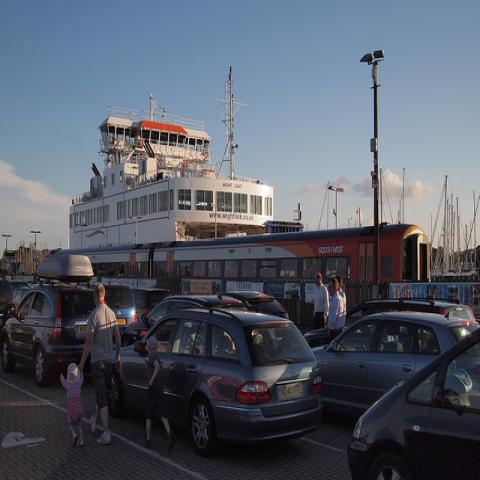car: (107, 308, 329, 457), (345, 323, 479, 479), (313, 311, 479, 423), (0, 285, 97, 387), (303, 297, 477, 349), (120, 293, 251, 345), (218, 289, 290, 320), (103, 286, 138, 328), (130, 287, 172, 321), (8, 280, 30, 299), (14, 286, 29, 305)
